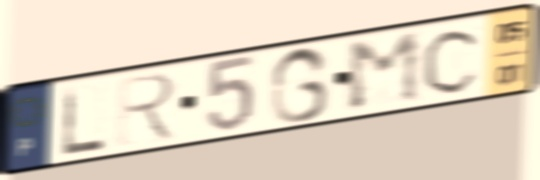5: (203, 52, 257, 137)
C: (419, 25, 485, 97)
G: (266, 43, 332, 126)
L: (61, 83, 109, 160)
M: (343, 28, 426, 116)
R: (115, 69, 180, 149)
